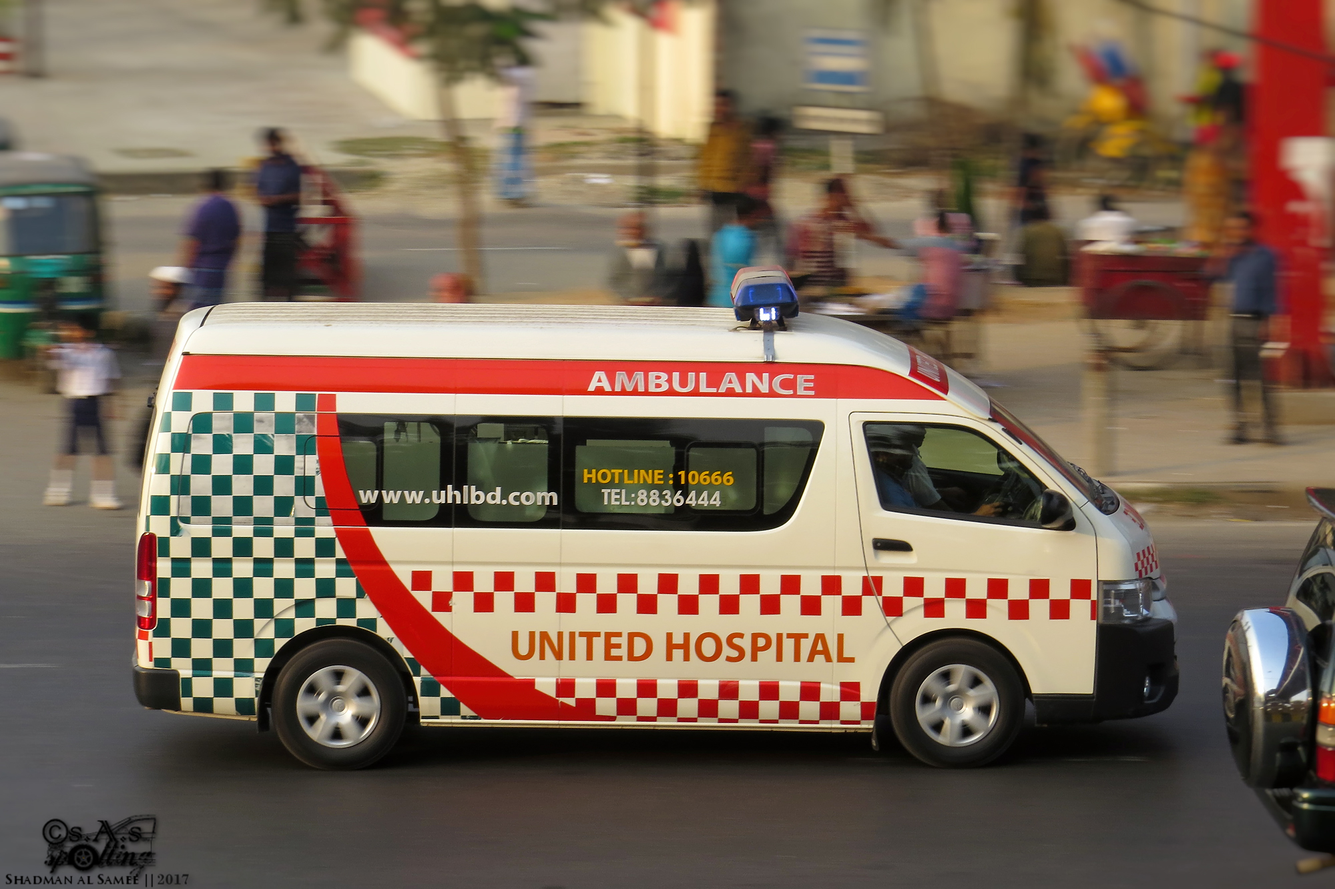Ambulance: (127, 265, 1184, 811)
cng: (0, 137, 144, 407)
